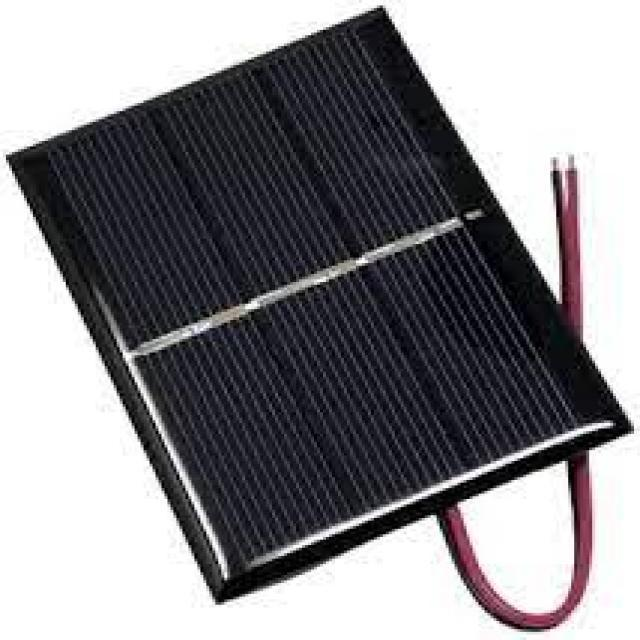Normal Solar Panel: (10, 2, 634, 602)
